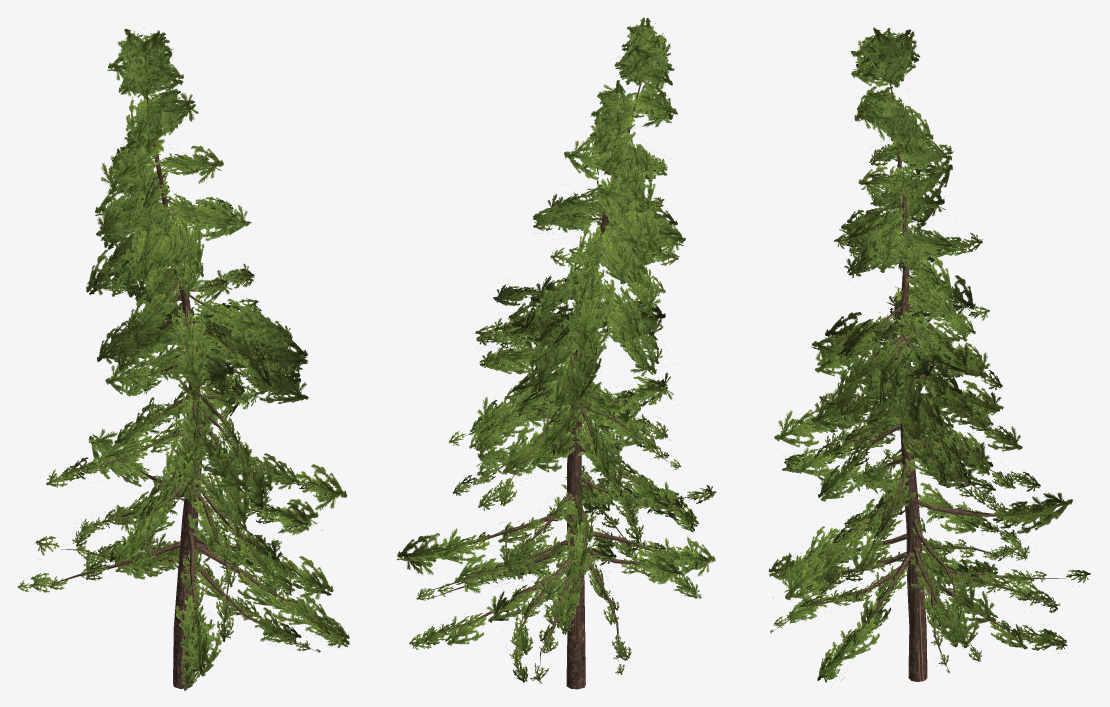
The model's file is ez-pine-small-a.glb.
The picture shows the model from 3 angles, left to right: view 1: azimuth 30°, elevation 25°; view 2: azimuth 150°, elevation 25°; view 3: azimuth 270°, elevation 25°; orthographic projection. The views are drawn at different scales.
Visible parts, largest first — view 1: mid, near; view 2: mid, near; view 3: mid, near.
Part boxes in pixels (bbox=[...]): mid: bbox=[80, 28, 349, 688]; near: bbox=[17, 32, 339, 690]; mid: bbox=[397, 17, 715, 686]; near: bbox=[409, 26, 716, 689]; mid: bbox=[768, 27, 1072, 682]; near: bbox=[770, 28, 1090, 679].
Bounding box in the file's own units: 3.4 × 8.11 × 3.88.
Materials: 1 (1 with a texture image).
